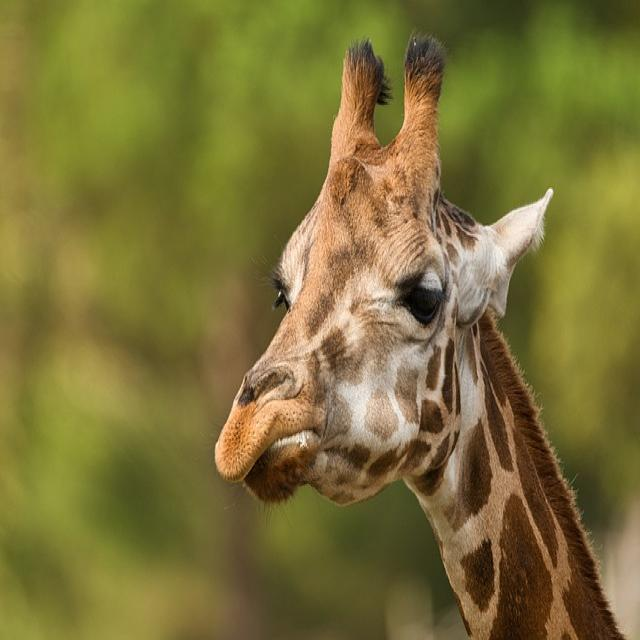Herbivorous: (213, 33, 627, 640)
